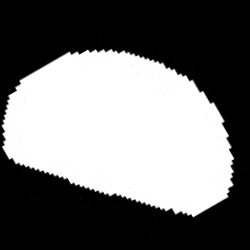spot: (2, 49, 234, 217)
